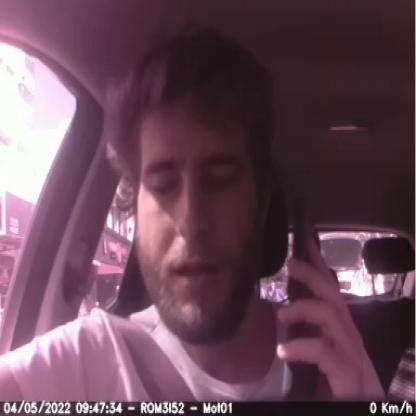phone: (282, 188, 325, 398)
